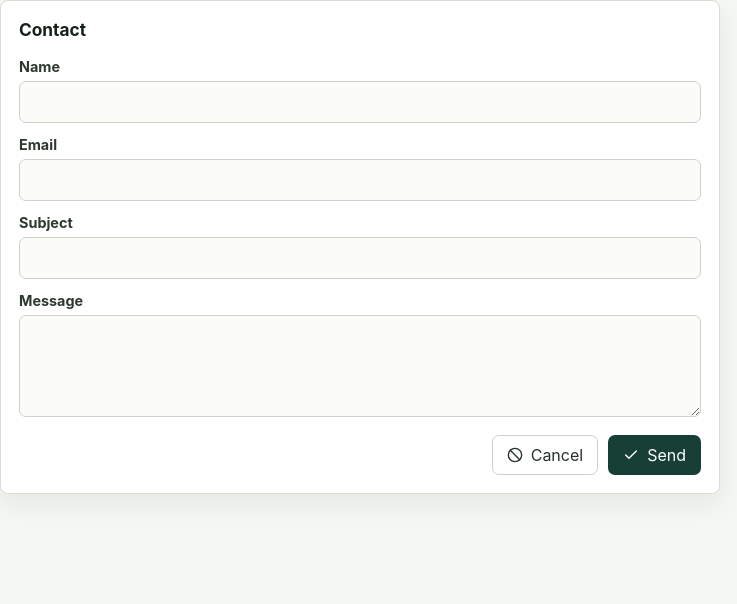
it: DynamicForm › enforces required-field validation
The image size is (737, 604).
Click the button "Send" at [655, 455], box [608,435,701,475]
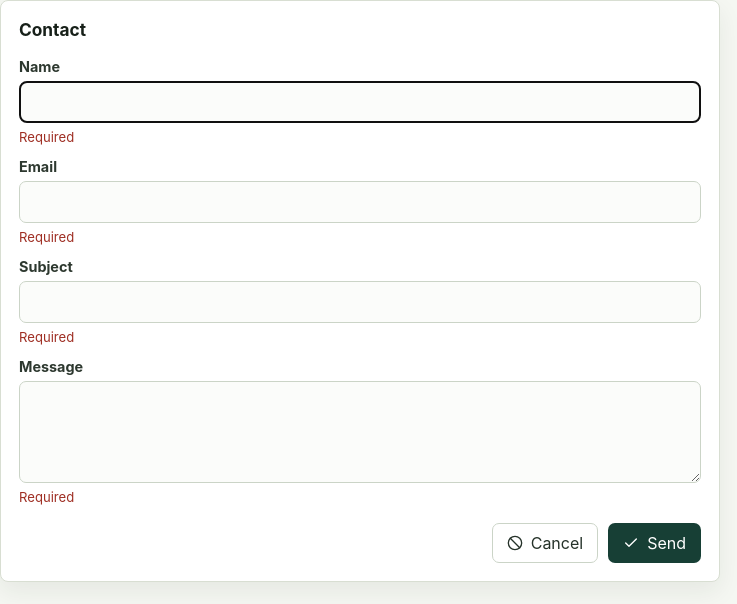
expect the text "Required" is shown 4 times: met, box [19,129,74,145]; [19,229,74,245]; [19,329,74,345]; [19,489,74,505]
